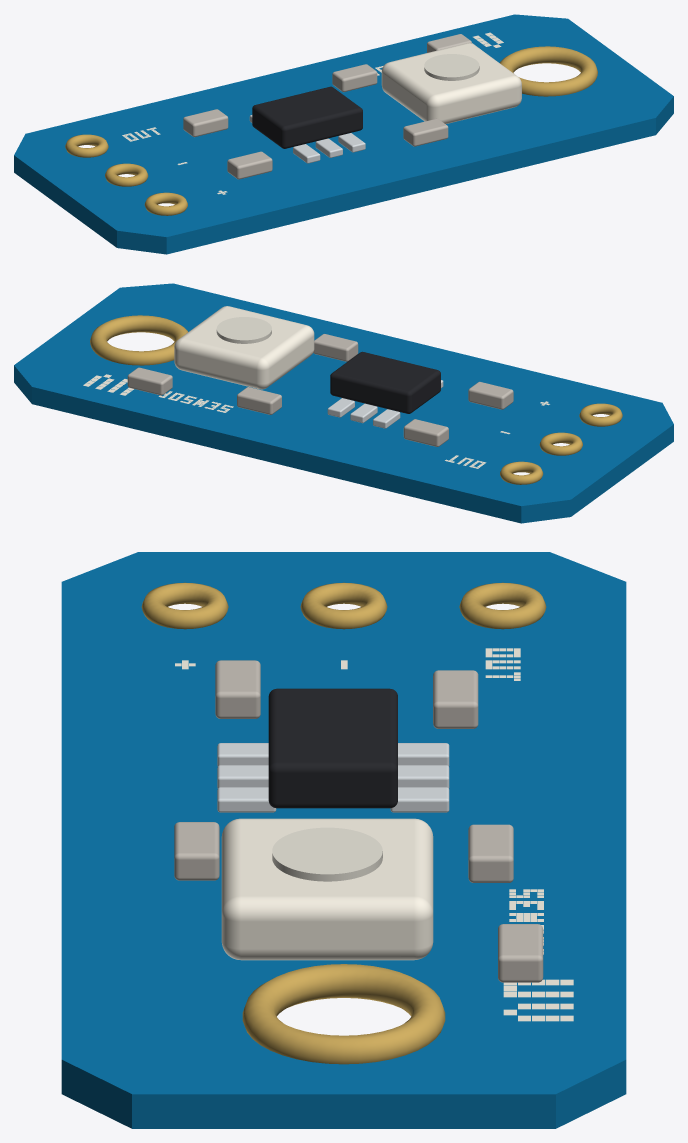
The model's file is sensors-06.glb.
3 views of the same model, one above another, from view 1: azimuth 30°, elevation 25°; view 2: azimuth 150°, elevation 25°; view 3: azimuth 270°, elevation 25° (orthographic). The views are drawn at different scales.
Parts seen in each view (by area): view 1: pcb, amp, detector, mount, pads; view 2: pcb, amp, detector, mount, pads; view 3: pcb, amp, detector, mount, pads.
Part boxes in pixels (bbox=[...]): pcb: bbox=[14, 14, 673, 254]; amp: bbox=[183, 34, 471, 179]; detector: bbox=[381, 43, 521, 123]; mount: bbox=[500, 46, 597, 96]; pads: bbox=[65, 134, 187, 215]; pcb: bbox=[14, 283, 673, 523]; amp: bbox=[127, 334, 513, 446]; detector: bbox=[174, 306, 314, 389]; mount: bbox=[90, 315, 187, 365]; pads: bbox=[500, 403, 622, 484]; pcb: bbox=[61, 552, 626, 1128]; amp: bbox=[174, 660, 543, 982]; detector: bbox=[221, 818, 433, 960]; mount: bbox=[242, 964, 445, 1064]; pads: bbox=[141, 582, 546, 629].
Size of the model in its own units: 2.18 by 0.204 by 0.96.
